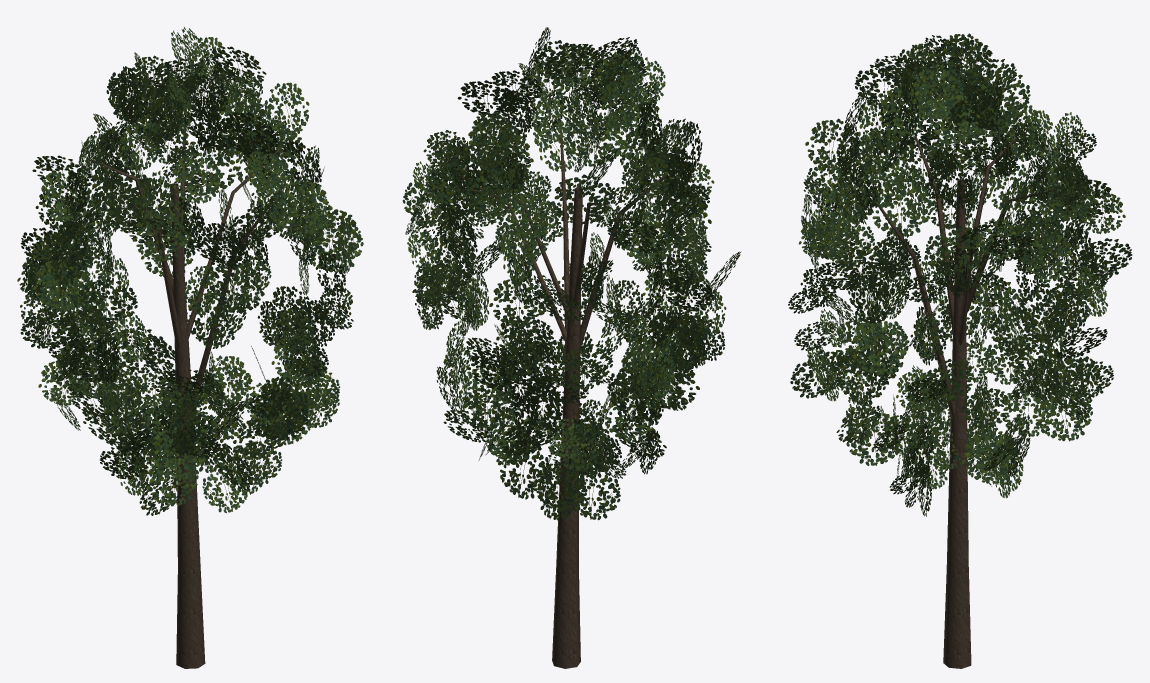
Rendered from tpl_rec_bank_meadow_alder_hi.glb.
The picture shows the model from 3 angles, left to right: view 1: azimuth 30°, elevation 25°; view 2: azimuth 150°, elevation 25°; view 3: azimuth 270°, elevation 25°; orthographic projection.
Parts seen in each view (by area): view 1: tpl_rec_bank_meadow_alder_hi; view 2: tpl_rec_bank_meadow_alder_hi; view 3: tpl_rec_bank_meadow_alder_hi.
Boxes of the visible parts, x1=… form: tpl_rec_bank_meadow_alder_hi: x1=17, y1=27, x2=363, y2=668; tpl_rec_bank_meadow_alder_hi: x1=402, y1=27, x2=741, y2=668; tpl_rec_bank_meadow_alder_hi: x1=788, y1=33, x2=1132, y2=668.
Size of the model in its own units: 8.29 by 15.78 by 8.16.
2 materials, 2 textured.
